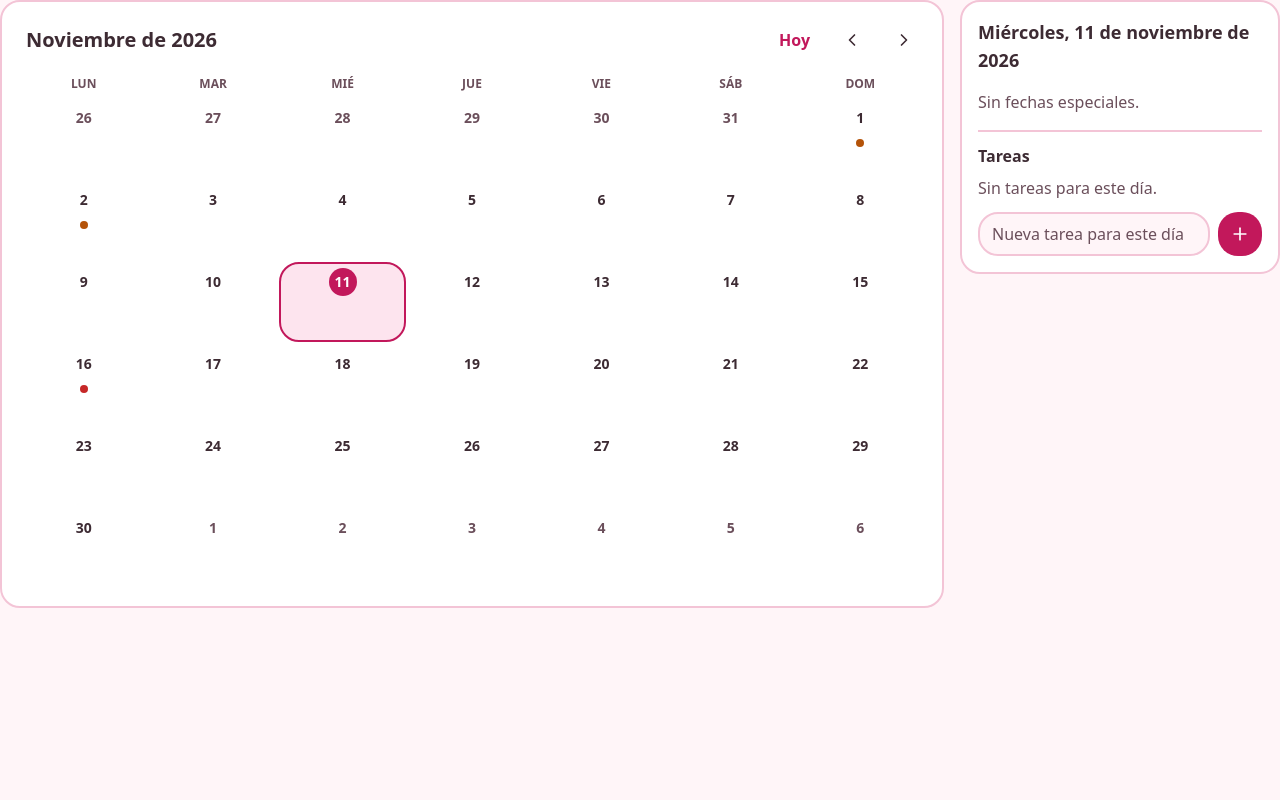
it: MonthCalendar › tasks › adds a task for the selected day
Click the button "20": (601, 384) 538,344 -> 665,424
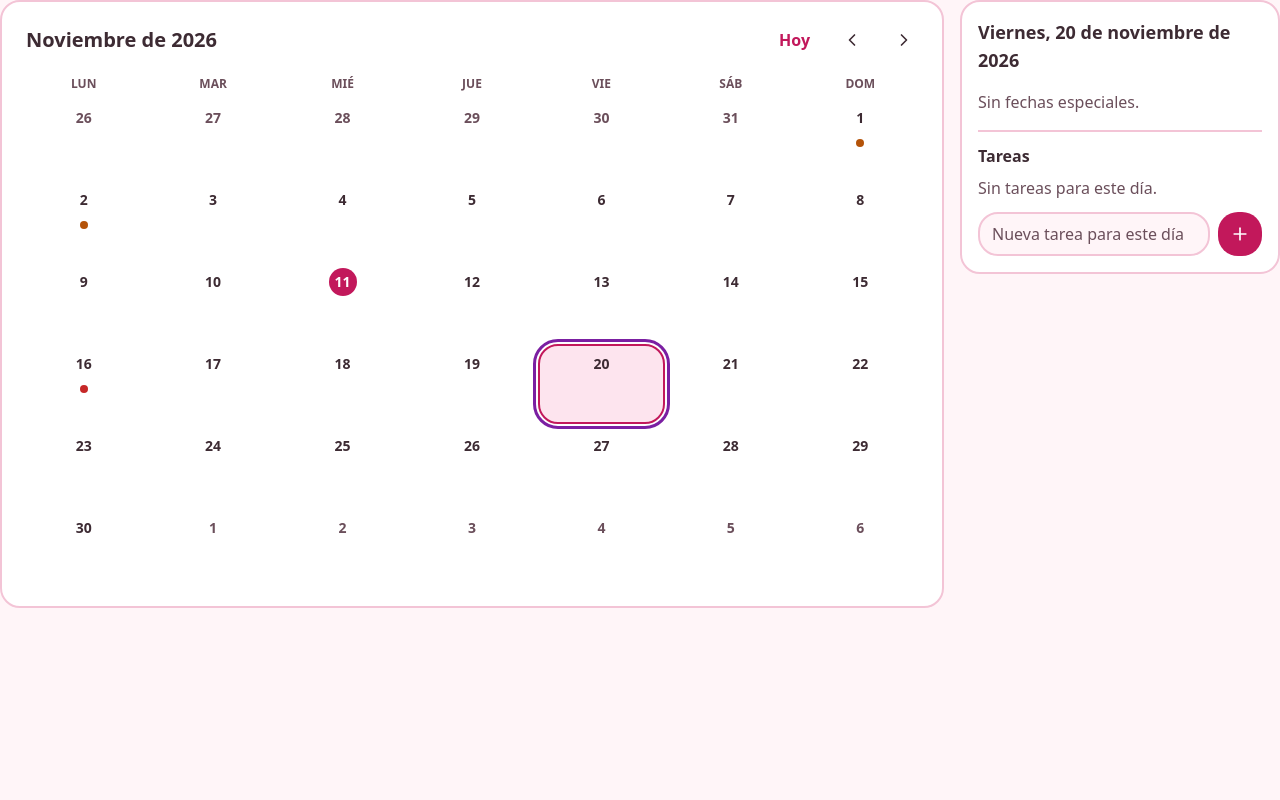
In the field labelled "Nueva tarea para este día": (1094, 234) 978,212 -> 1210,256, type "  Inflar globos "
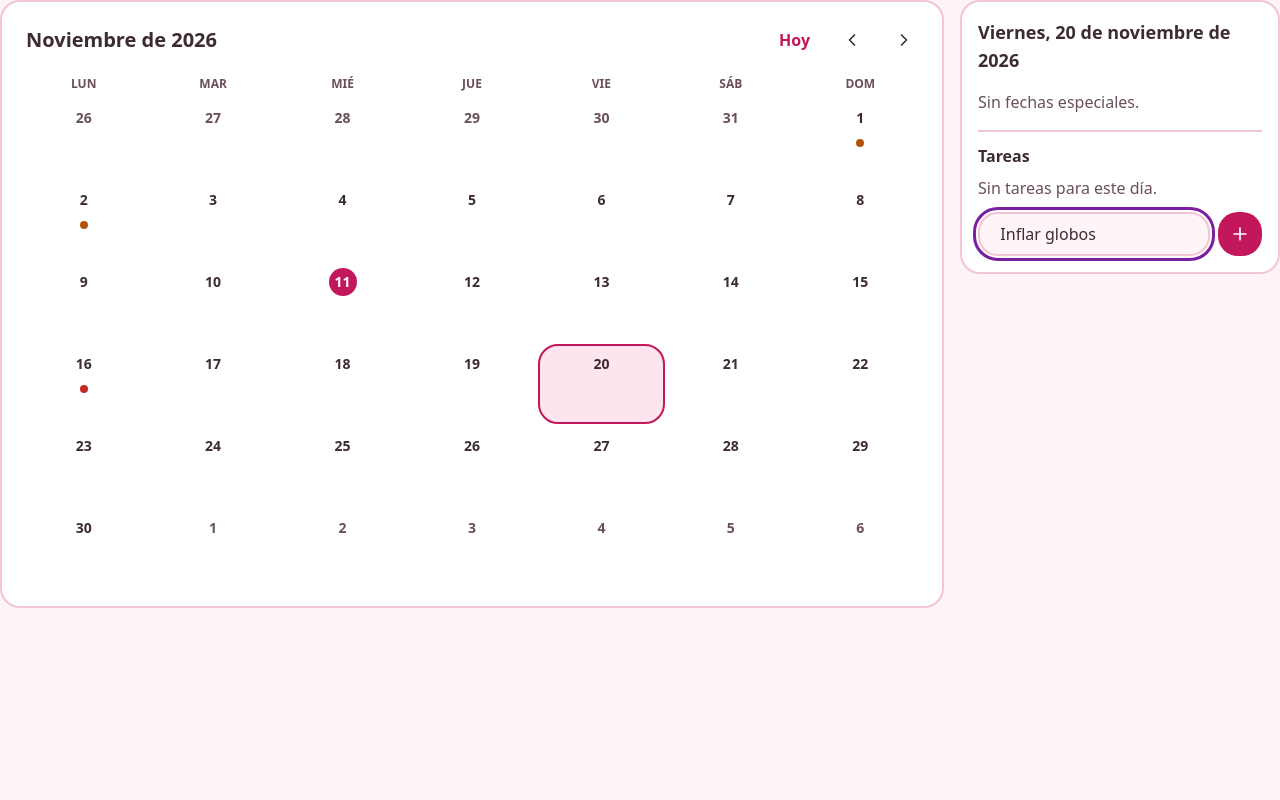
Click the button named "Agregar tarea a este día": (1240, 234) 1218,212 -> 1262,256
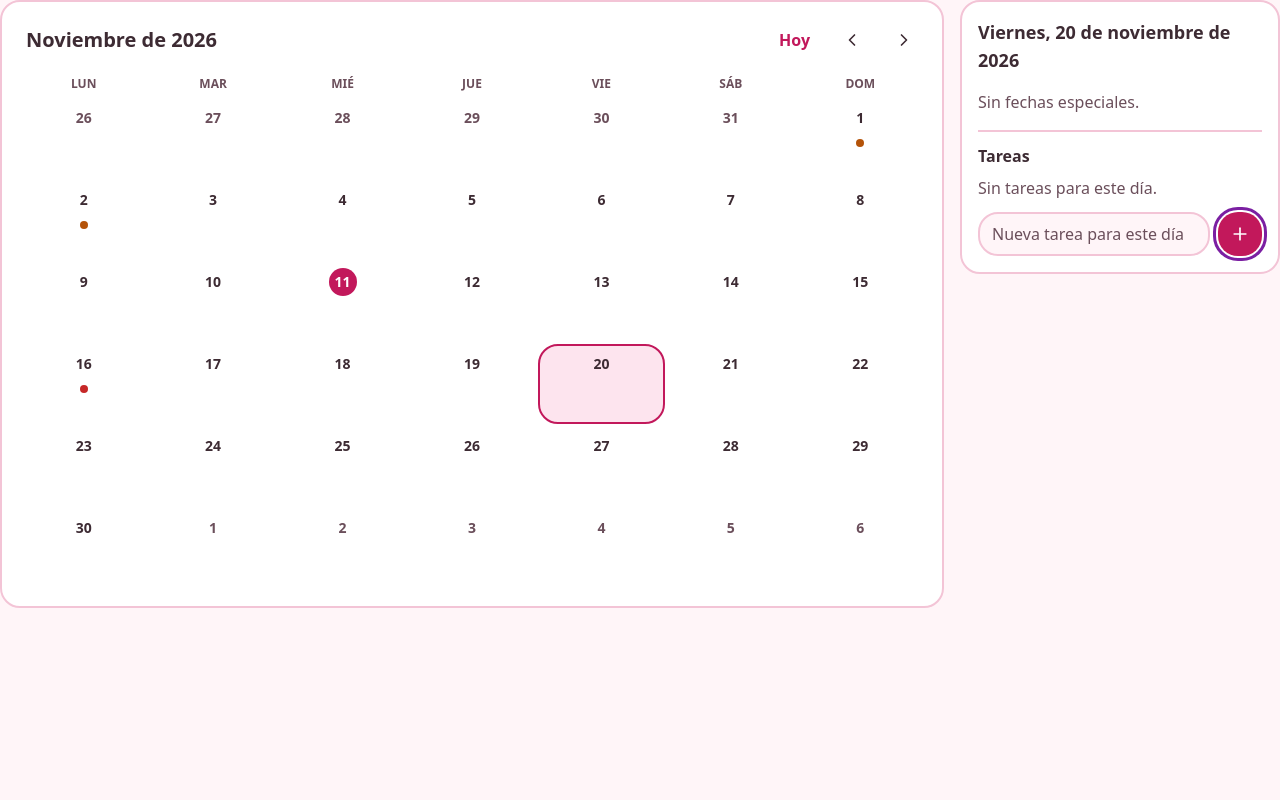
Check: the field labelled "Nueva tarea para este día" is empty, box 978,212 -> 1210,256
